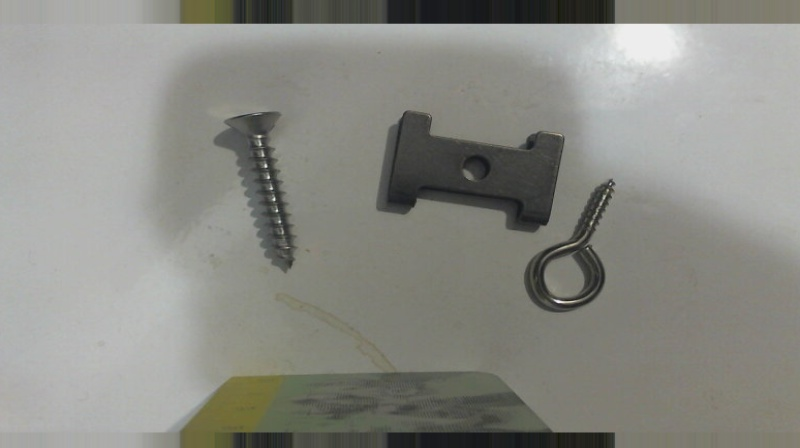O001: (522, 176, 618, 313)
O002: (384, 106, 568, 225)
S001: (219, 107, 298, 269)
